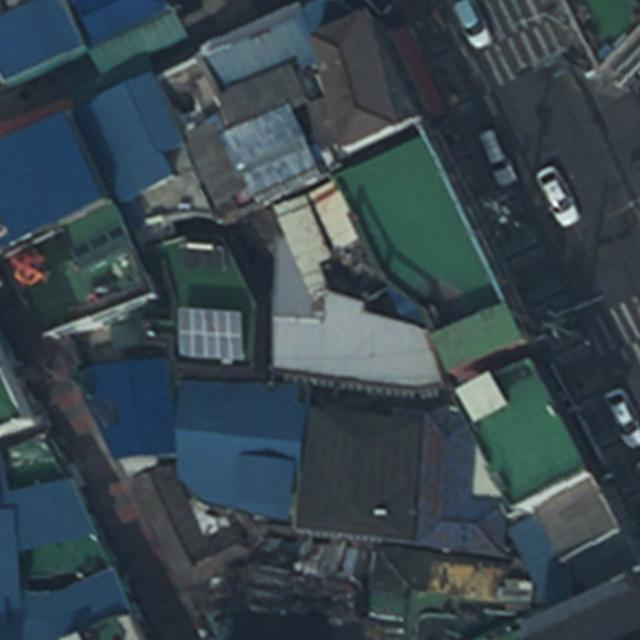panel: (174, 306, 244, 360)
